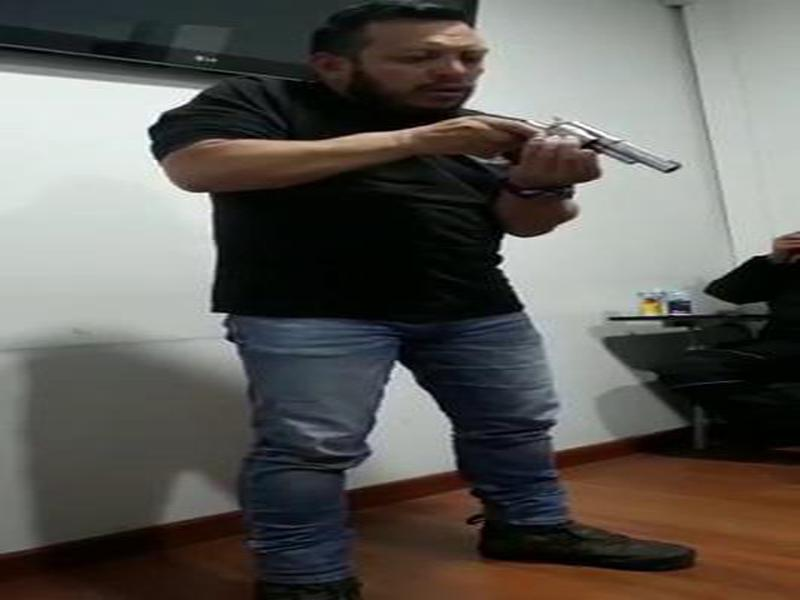Revolver: (486, 98, 694, 204)
